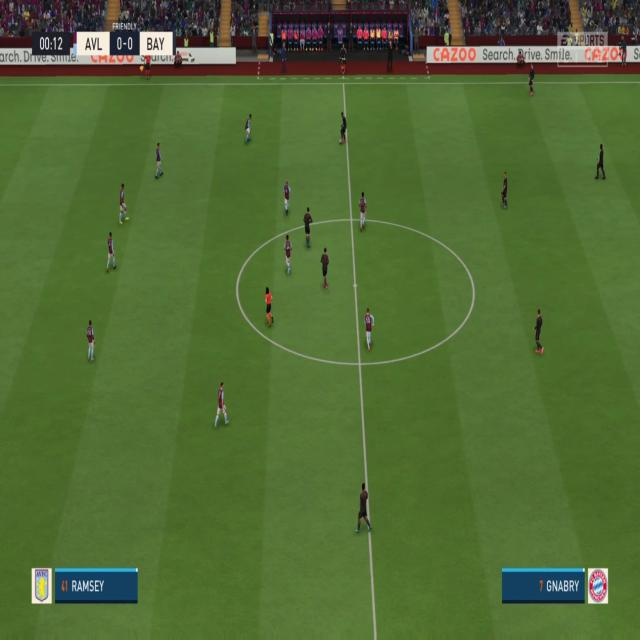Referee: (264, 288, 274, 328)
Team-A: (357, 480, 374, 533), (596, 146, 608, 182), (535, 313, 545, 353), (319, 251, 329, 289), (303, 210, 313, 248), (501, 174, 510, 210), (339, 114, 348, 146), (527, 68, 535, 96)
Team-H: (213, 381, 230, 429), (105, 232, 118, 273), (364, 306, 375, 351), (120, 182, 131, 224), (154, 143, 166, 181), (85, 321, 96, 362), (360, 192, 370, 230), (282, 180, 292, 218), (284, 235, 294, 273), (245, 115, 255, 146), (338, 138, 342, 145)
